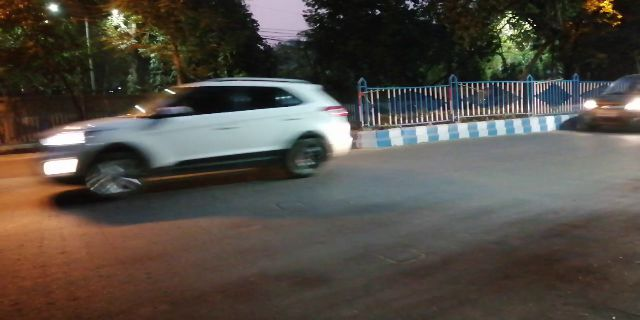Car: (31, 76, 357, 201), (582, 69, 640, 133)
